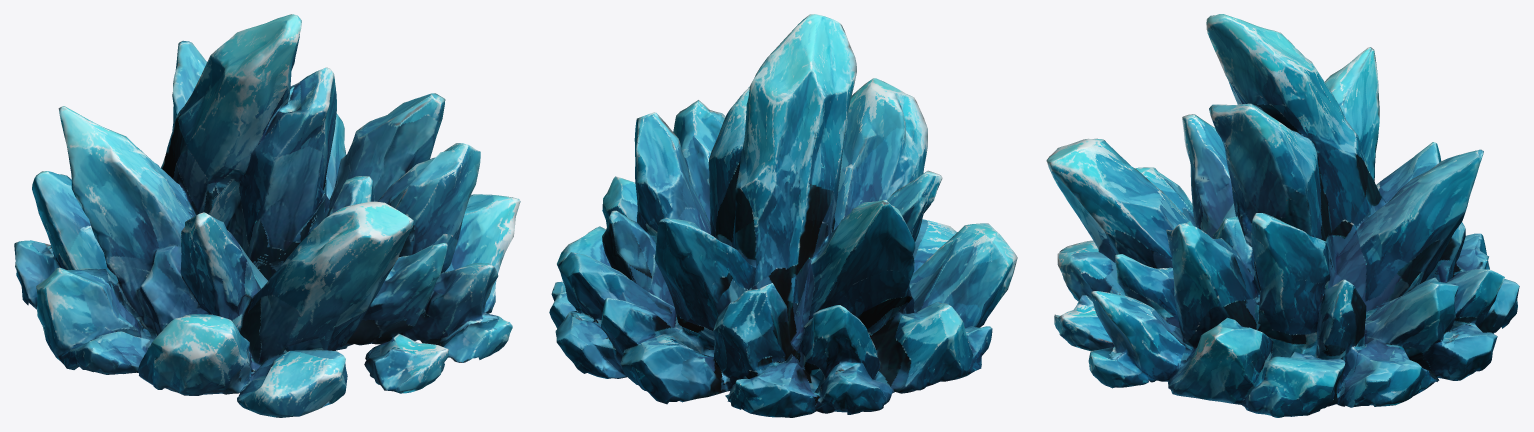
File: IceShard_Large_B.fbx
3 renders of one model, left to right at view 1: azimuth 30°, elevation 25°; view 2: azimuth 150°, elevation 25°; view 3: azimuth 270°, elevation 25°, orthographic. The views are drawn at different scales.
Visible parts, largest first — view 1: texture_mapping; view 2: texture_mapping; view 3: texture_mapping.
Part boxes in pixels (x1,y1,x2,y2): texture_mapping: [14, 14, 520, 417]; texture_mapping: [549, 14, 1017, 417]; texture_mapping: [1046, 14, 1519, 417].
Size of the model in its own units: 0.9989 by 1 by 0.7443.
1 material, 1 textured.
